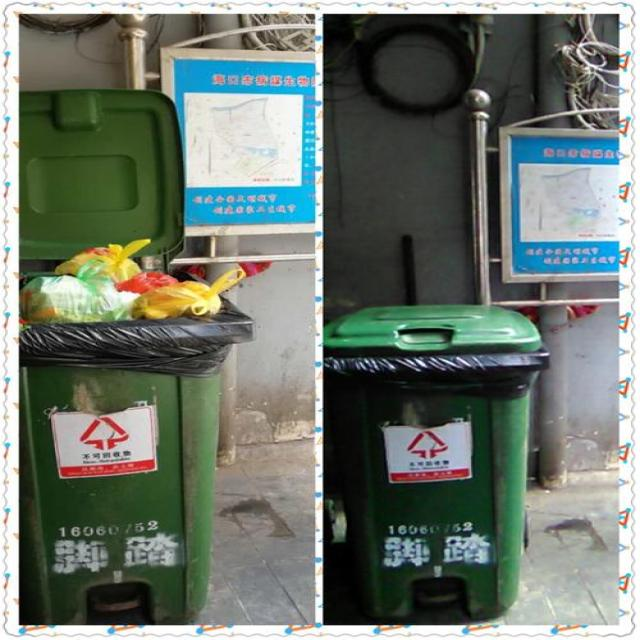garbage_bin: (323, 302, 549, 621)
overflow: (20, 237, 254, 623)
